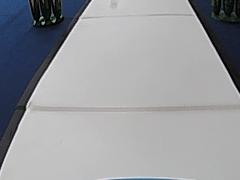corn: (27, 0, 66, 27), (210, 0, 239, 25)
